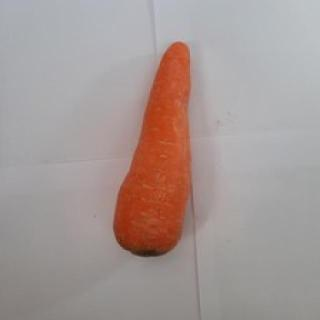carrot: (111, 41, 191, 259)
